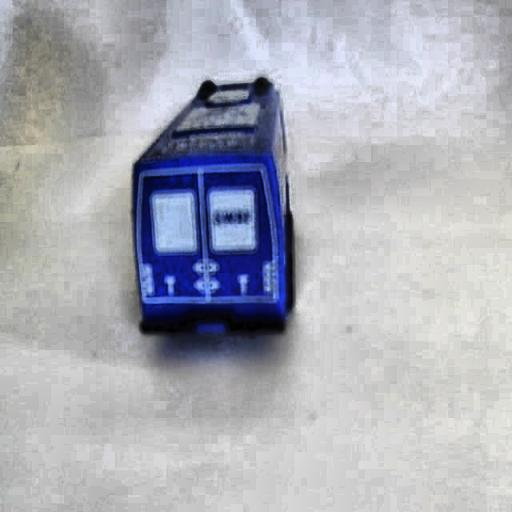police car: (129, 82, 296, 346)
